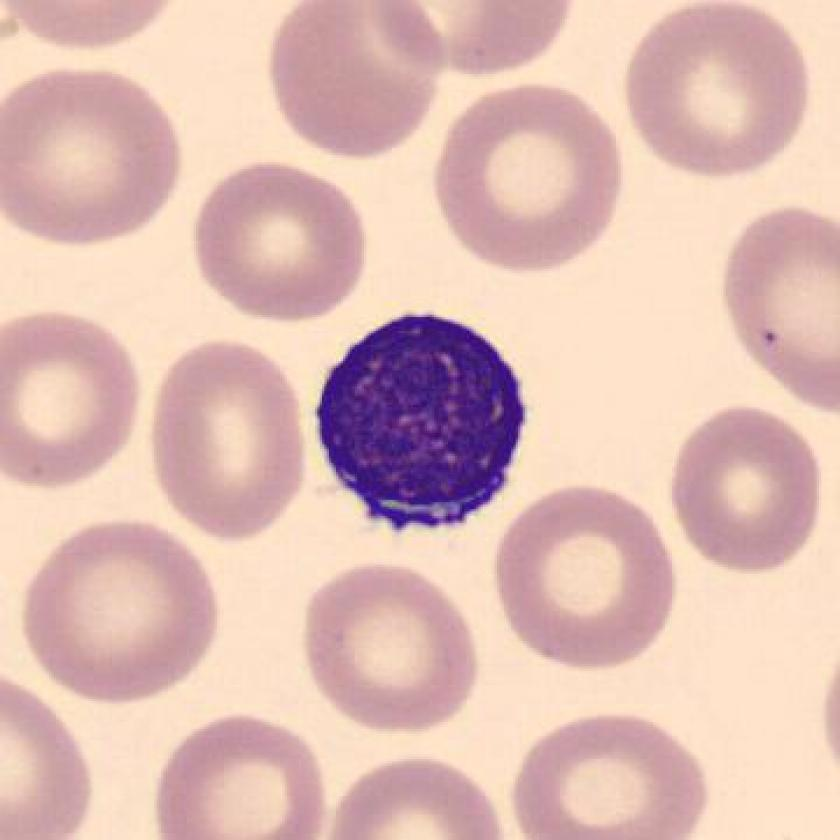lymphocyte: (293, 290, 547, 545)
